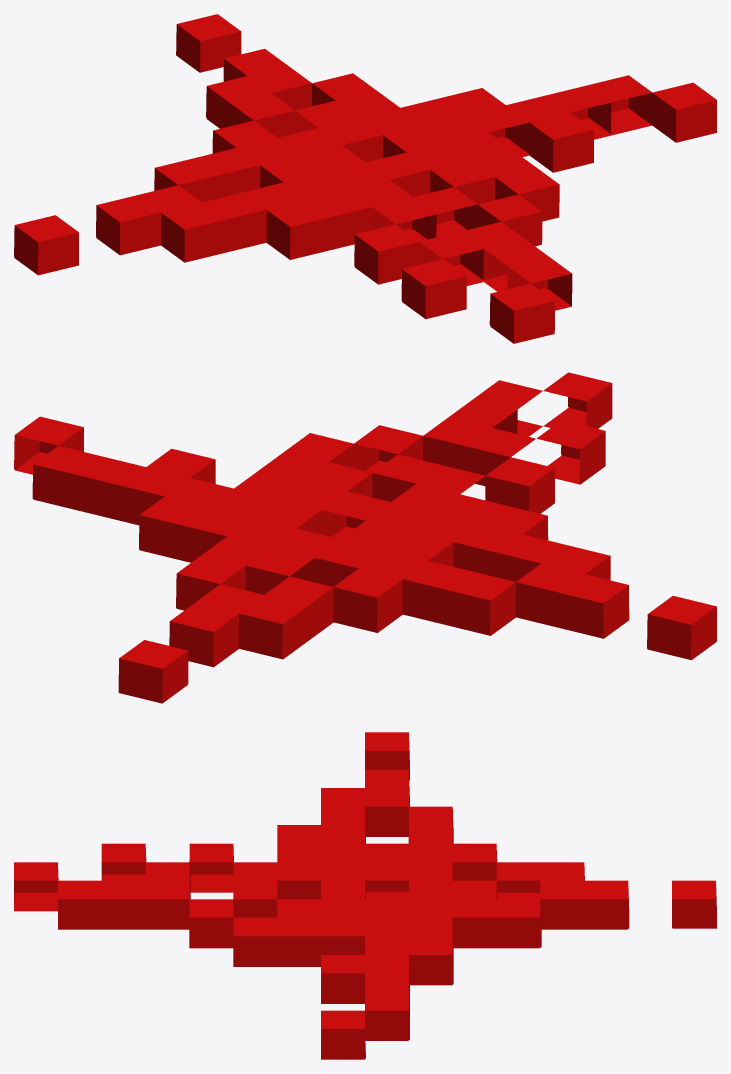
Rendered from redstone9.obj.
The picture shows the model from 3 angles, top to bottom: view 1: azimuth 30°, elevation 25°; view 2: azimuth 150°, elevation 25°; view 3: azimuth 270°, elevation 25°; orthographic projection. The views are drawn at different scales.
Parts seen in each view (by area): view 1: Plane, Cube; view 2: Plane, Cube; view 3: Plane, Cube.
Boxes of the visible parts, x1,y1,x2,y2 form: Plane: (15,14,716,310); Cube: (14,24,716,343); Plane: (15,372,716,668); Cube: (14,383,716,703); Plane: (14,732,715,1028); Cube: (14,741,716,1059).
Bounding box in the file's own units: 1 × 0.0481 × 1.
Materials: 2 (2 with a texture image).
